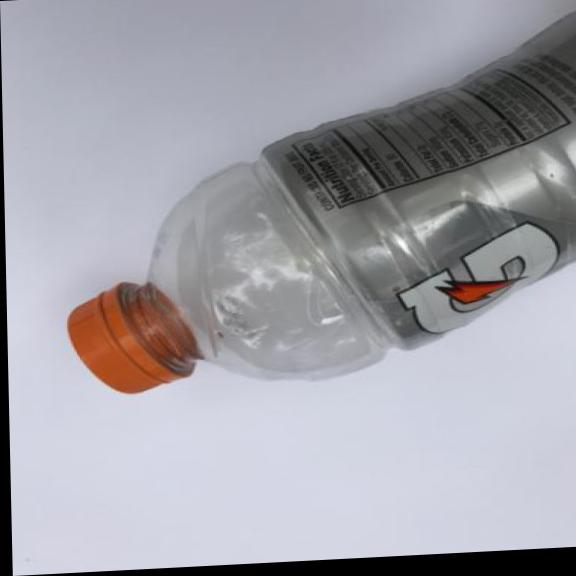Plastik: (56, 10, 576, 399)
